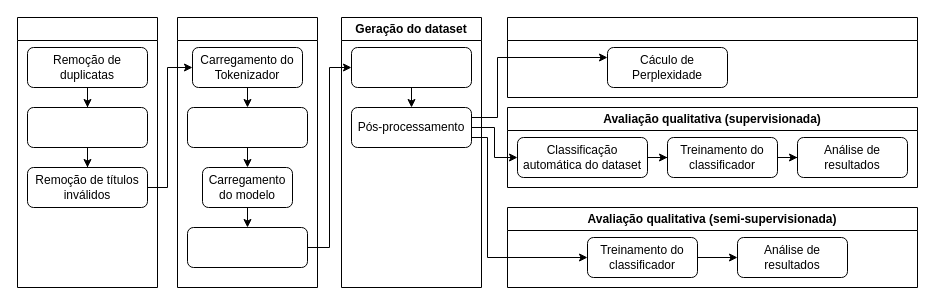
Some shapes in this 935 by 305 pixel diagram are drawn without their labels. The box of each missing label's shape, as (x1, y1, x2, y2) in pixels:
Avaliação quantitativa: (506, 16, 918, 98)
Divisão dos dados em treinamento/teste: (186, 106, 308, 148)
Fine tuning do modelo: (176, 16, 318, 288)
Fine tunning do modelo: (186, 226, 308, 268)
Geração do dataset (inferência): (350, 46, 472, 88)
Pré-processamento: (16, 16, 158, 288)
Remoção de títulos muito curtos: (26, 106, 148, 148)
